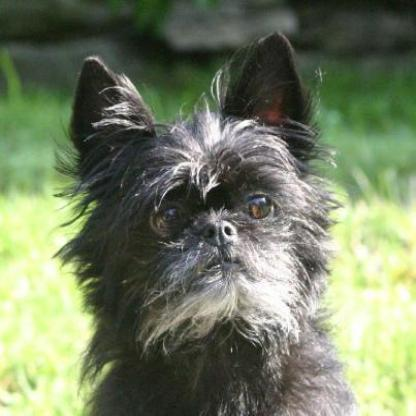affenpinscher: (44, 27, 370, 414)
